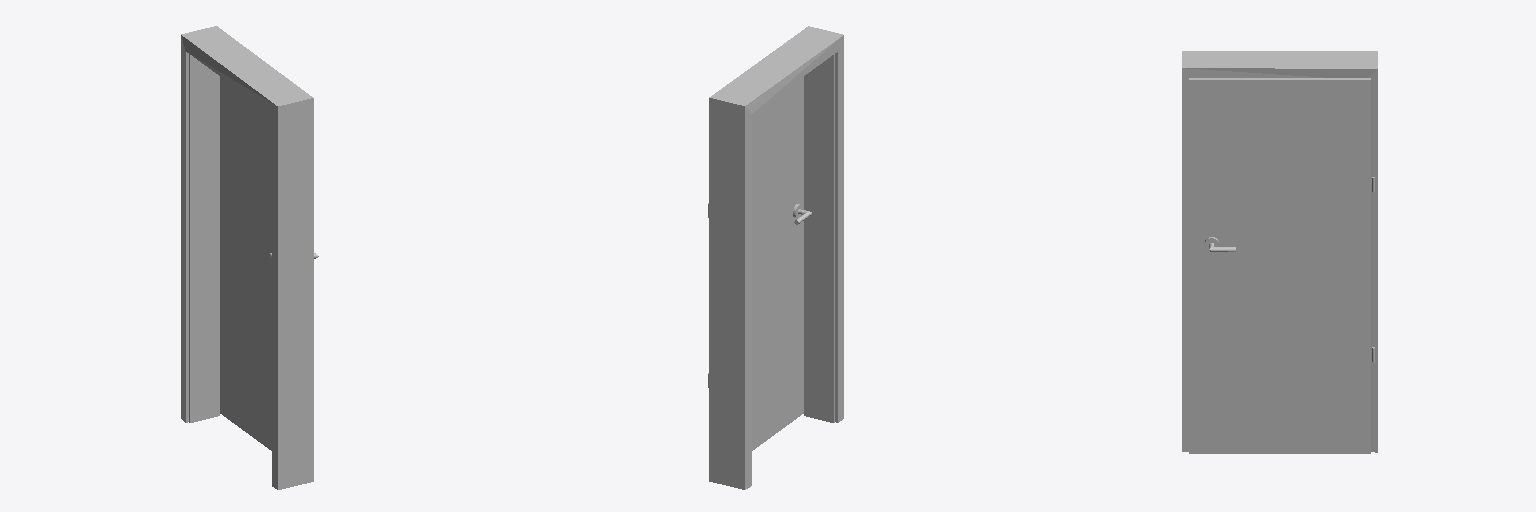
The model's file is door6.obj.
3 renders of one model, left to right at view 1: azimuth 30°, elevation 25°; view 2: azimuth 150°, elevation 25°; view 3: azimuth 270°, elevation 25°, orthographic.
Visible parts, largest first — view 1: Cylinder.005, Cylinder.001; view 2: Cylinder.005, Cylinder.001; view 3: Cylinder.001, Cylinder.005.
Boxes of the visible parts, x1=… form: Cylinder.005: x1=181, y1=26, x2=313, y2=489; Cylinder.001: x1=220, y1=77, x2=271, y2=450; Cylinder.005: x1=708, y1=26, x2=843, y2=489; Cylinder.001: x1=708, y1=77, x2=803, y2=450; Cylinder.001: x1=1189, y1=78, x2=1374, y2=453; Cylinder.005: x1=1182, y1=51, x2=1377, y2=452.
Bounding box in the file's own units: 0.3039 × 2.05 × 0.95.